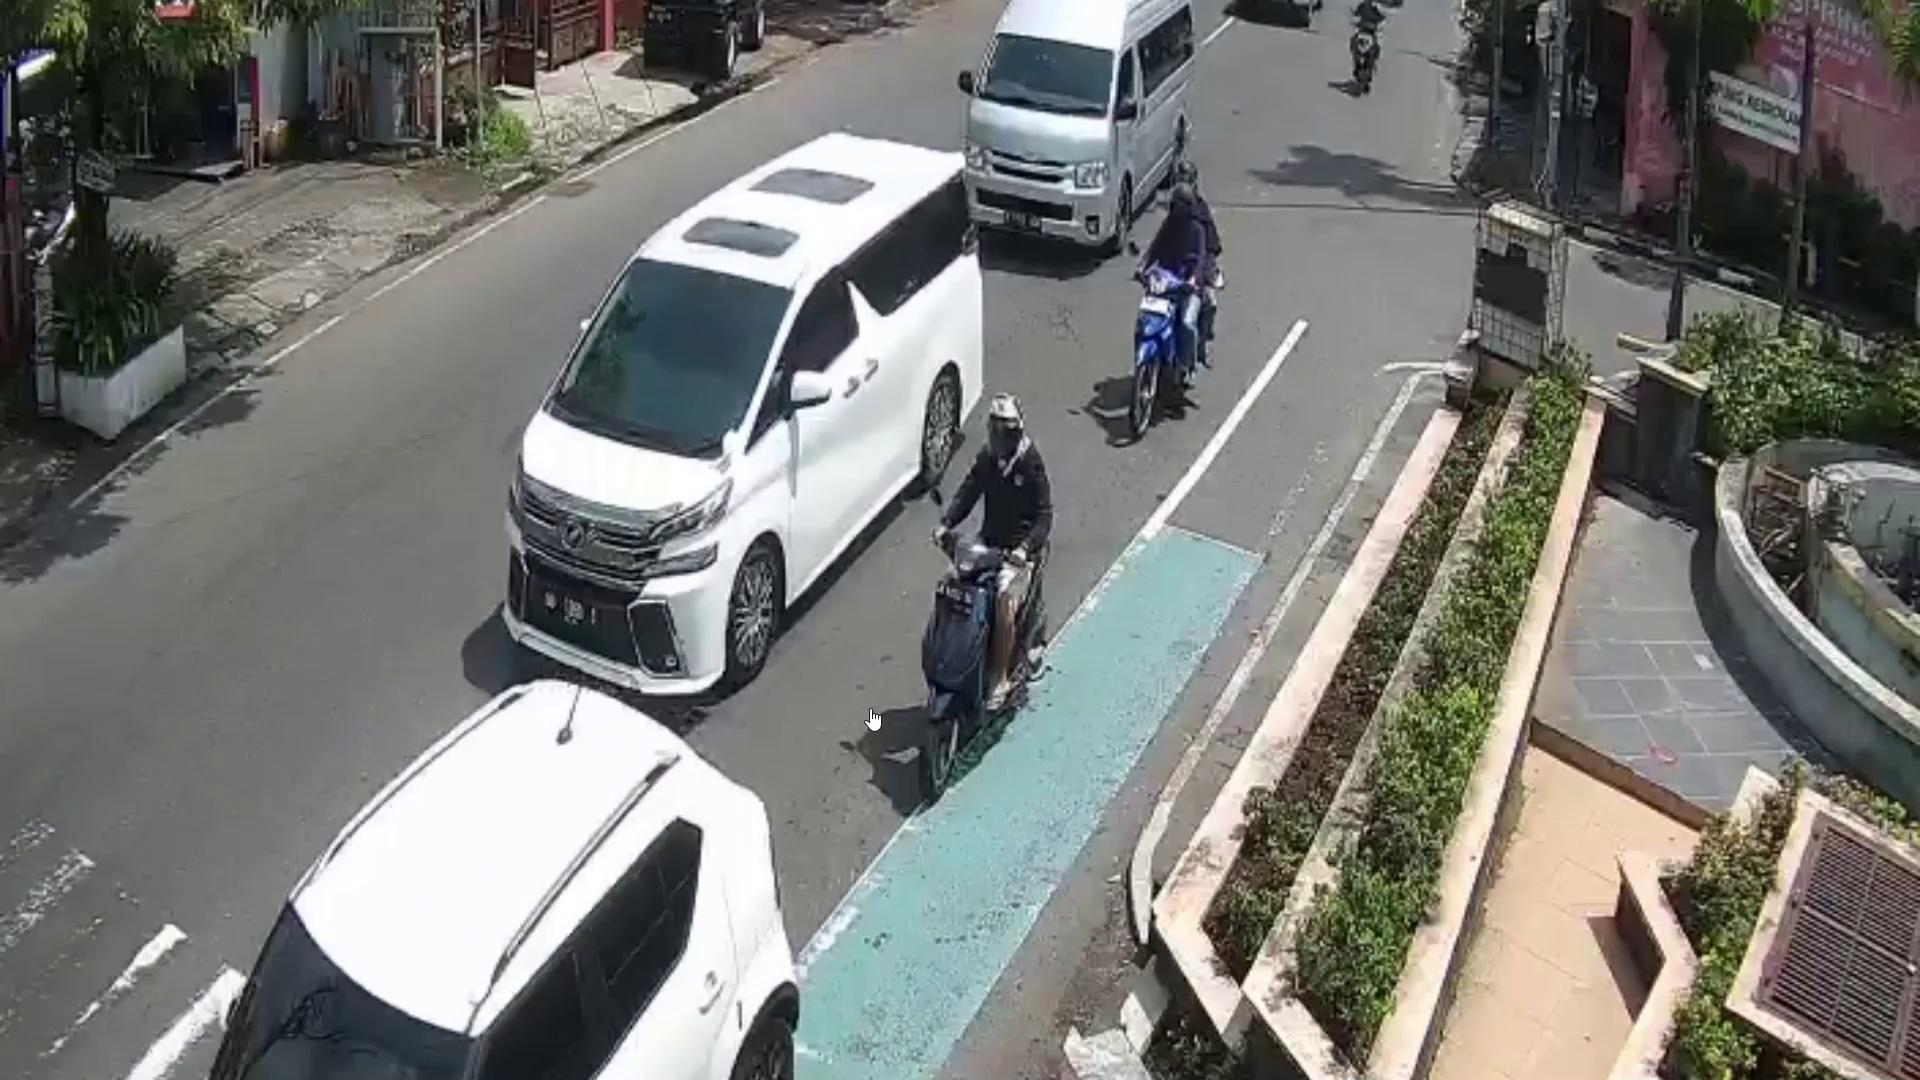bus: (968, 0, 1188, 261)
car: (504, 124, 982, 695), (211, 675, 796, 1080)
motorbike: (924, 526, 1050, 791), (1134, 270, 1185, 430)
